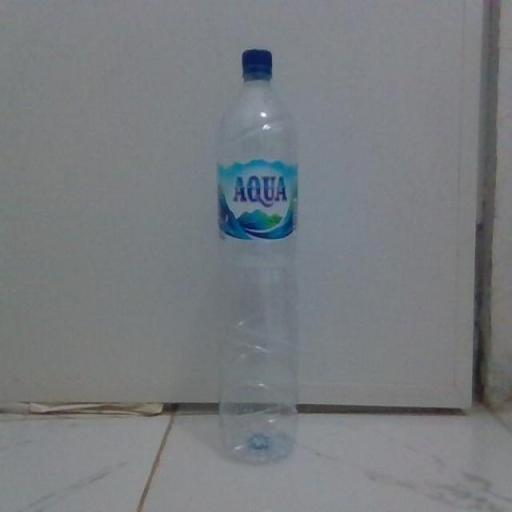bottle: (203, 37, 307, 479)
